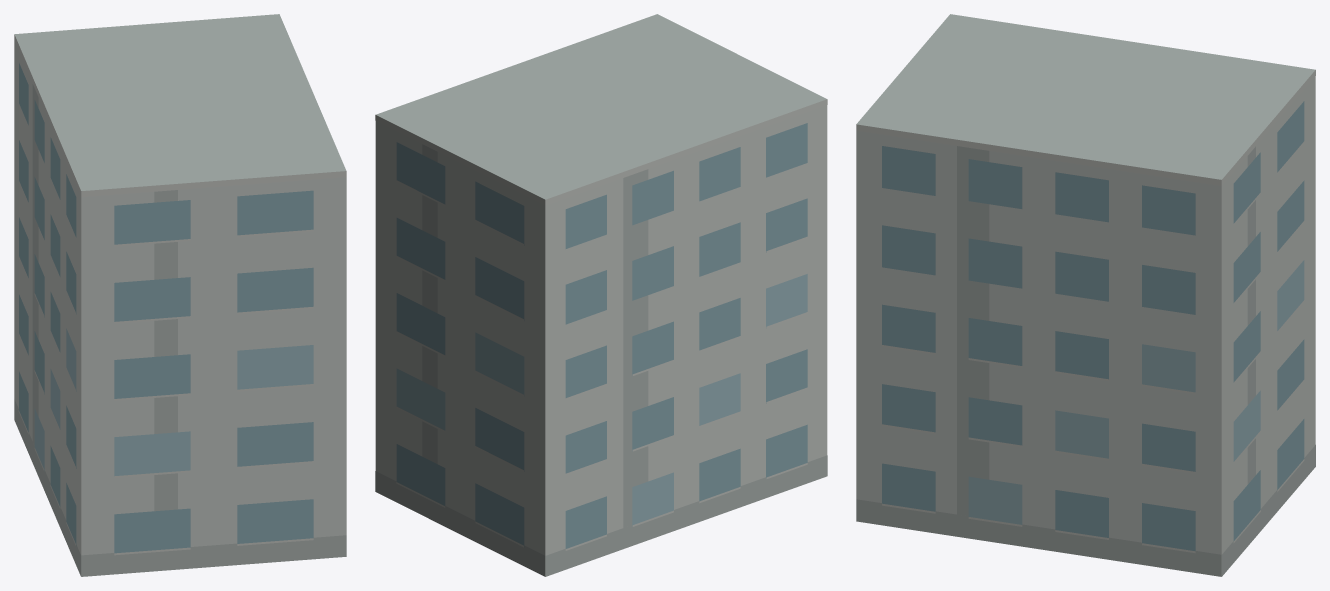
Rendered from residential-fce8e4ac-7699-466e-87b3-672040bb28a0.glb.
3 views of the same model, side by side, from view 1: azimuth 30°, elevation 25°; view 2: azimuth 150°, elevation 25°; view 3: azimuth 270°, elevation 25° (orthographic). The views are drawn at different scales.
Visible parts, largest first — view 1: residential-fce8e4ac-7699-466e-87b3-672040bb28a0.tmp; view 2: residential-fce8e4ac-7699-466e-87b3-672040bb28a0.tmp; view 3: residential-fce8e4ac-7699-466e-87b3-672040bb28a0.tmp.
Boxes of the visible parts, left/top/right/bottom form: residential-fce8e4ac-7699-466e-87b3-672040bb28a0.tmp: left=14, top=14, right=346, bottom=576; residential-fce8e4ac-7699-466e-87b3-672040bb28a0.tmp: left=375, top=14, right=827, bottom=576; residential-fce8e4ac-7699-466e-87b3-672040bb28a0.tmp: left=856, top=14, right=1315, bottom=576.
Size of the model in its own units: 13.67 by 15.25 by 16.01.
